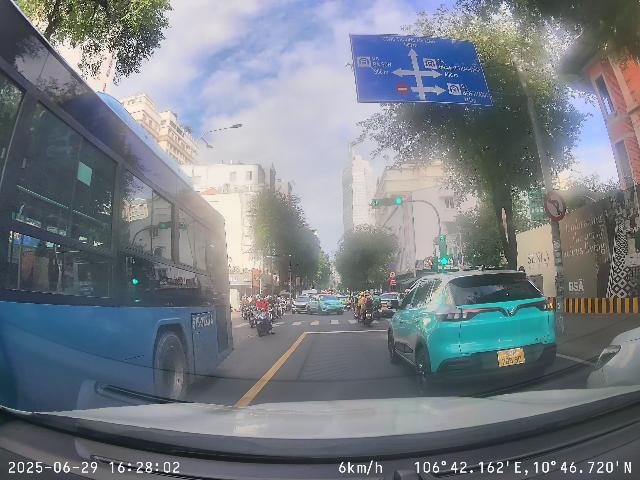123a-cam-re-trai: (544, 191, 566, 221)
131a-cam-do-xe: (388, 263, 396, 271)
